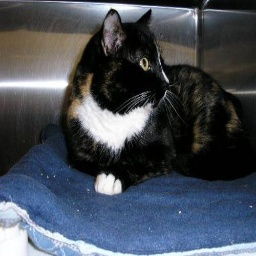cat: (60, 10, 256, 198)
